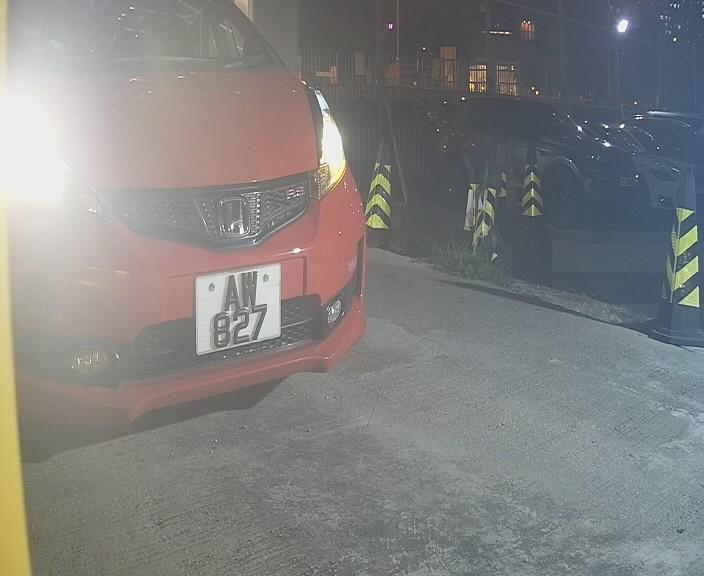License Plate: (177, 255, 293, 363)
